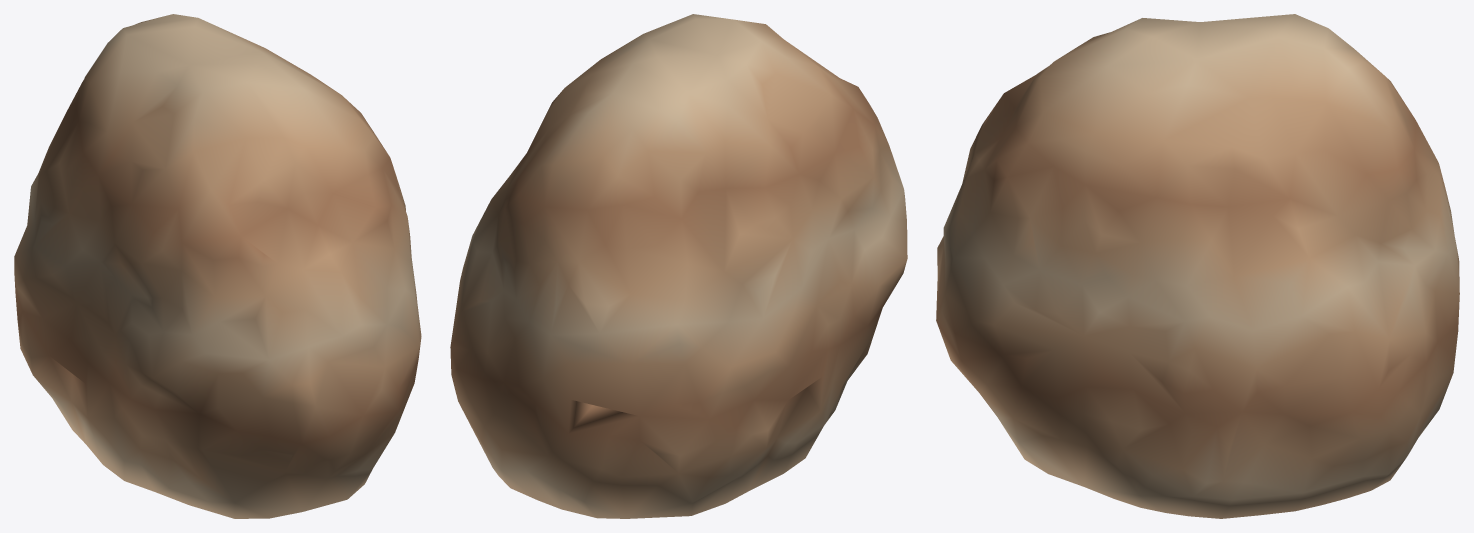
File: rocha_b.glb
3 views of the same model, side by side, from view 1: azimuth 30°, elevation 25°; view 2: azimuth 150°, elevation 25°; view 3: azimuth 270°, elevation 25° (orthographic). The views are drawn at different scales.
Parts seen in each view (by area): view 1: Rocha; view 2: Rocha; view 3: Rocha.
Boxes of the visible parts, x1=… form: Rocha: x1=14, y1=14, x2=421, y2=518; Rocha: x1=450, y1=14, x2=907, y2=518; Rocha: x1=936, y1=14, x2=1459, y2=518.
Bounding box in the file's own units: 3.31 × 3.92 × 4.52.
